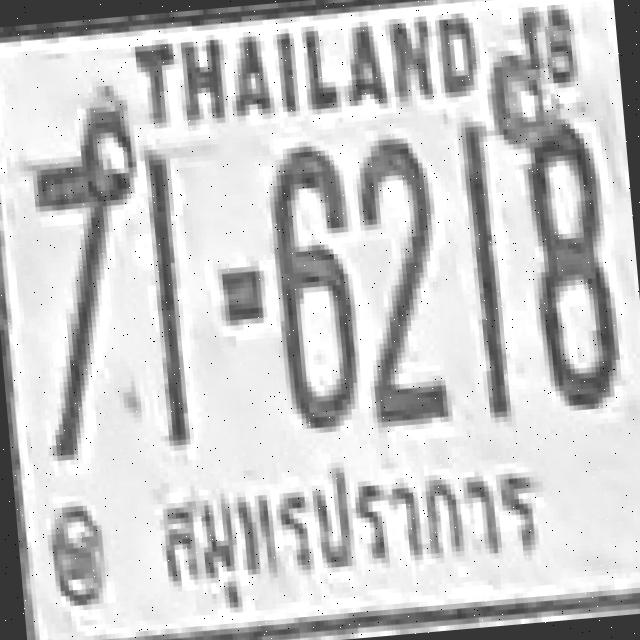1: (456, 120, 512, 416)
2: (348, 132, 451, 422)
6: (263, 138, 363, 430)
7: (27, 160, 136, 458)
8: (518, 113, 624, 410)
SamutPrakan: (142, 438, 558, 624)
